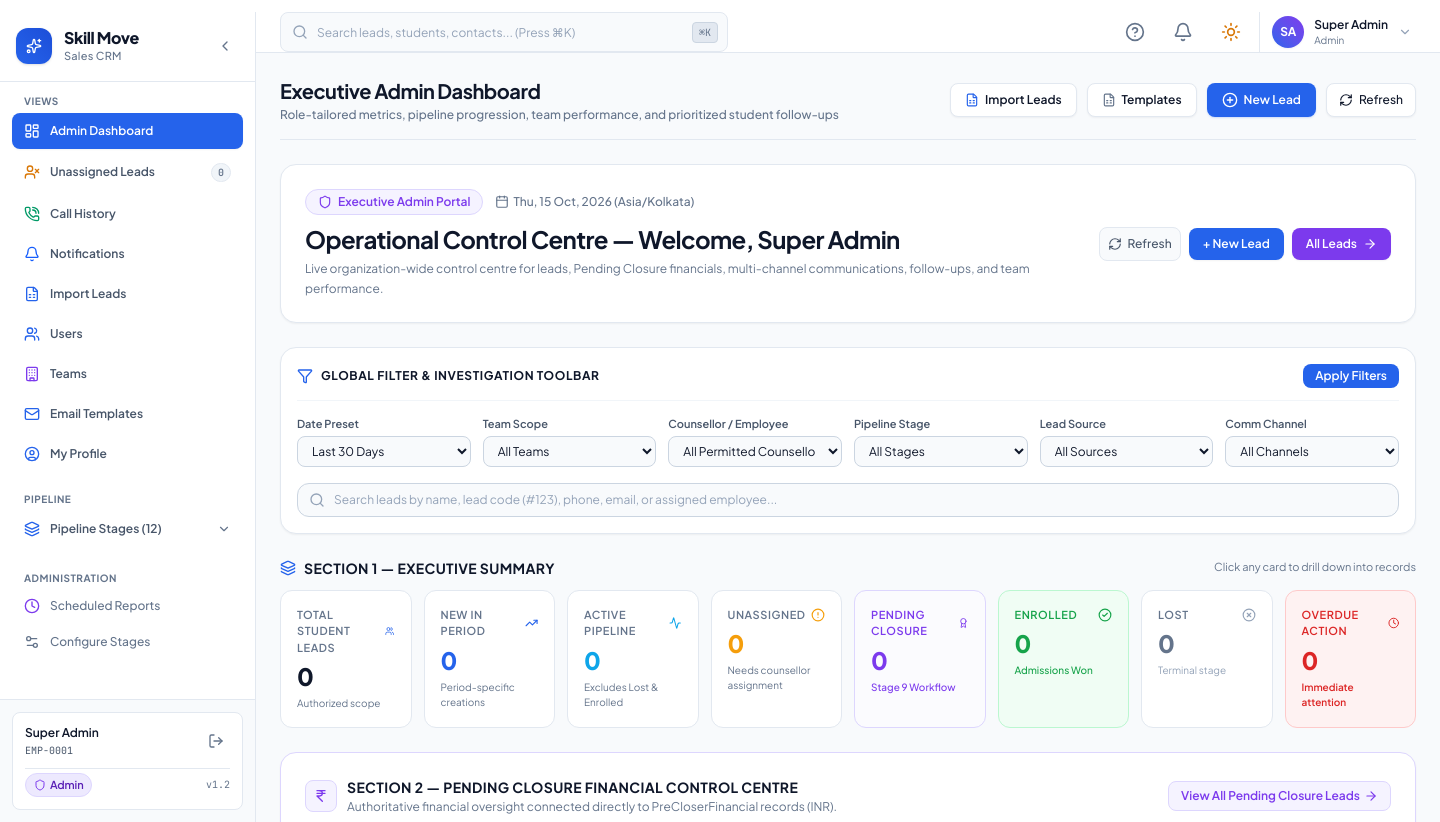
it: Task 2 — User Management List and Navigation › 1. Sidebar Navigation and Dedicated Route › clicking Users in sidebar navigates to ?view=users and highlights the item
Expected: the heading "Executive Admin Dashboard" is shown, [280,77,540,105]
Click the button with id "sidebar-users-nav-item" at x=128, y=334, box [12,316,243,352]
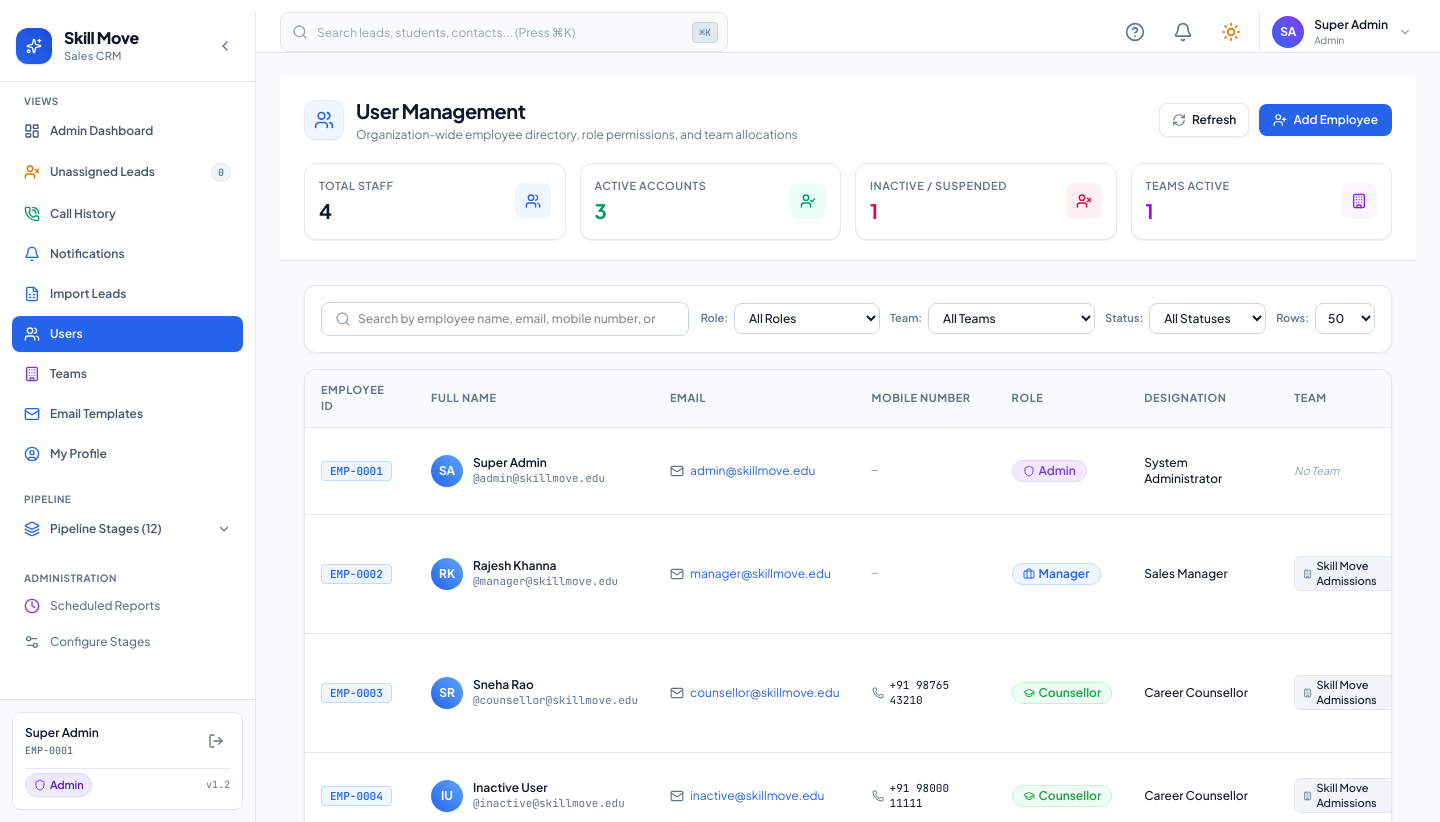
Expected: the heading "User Management" is shown, [356,98,526,123]
